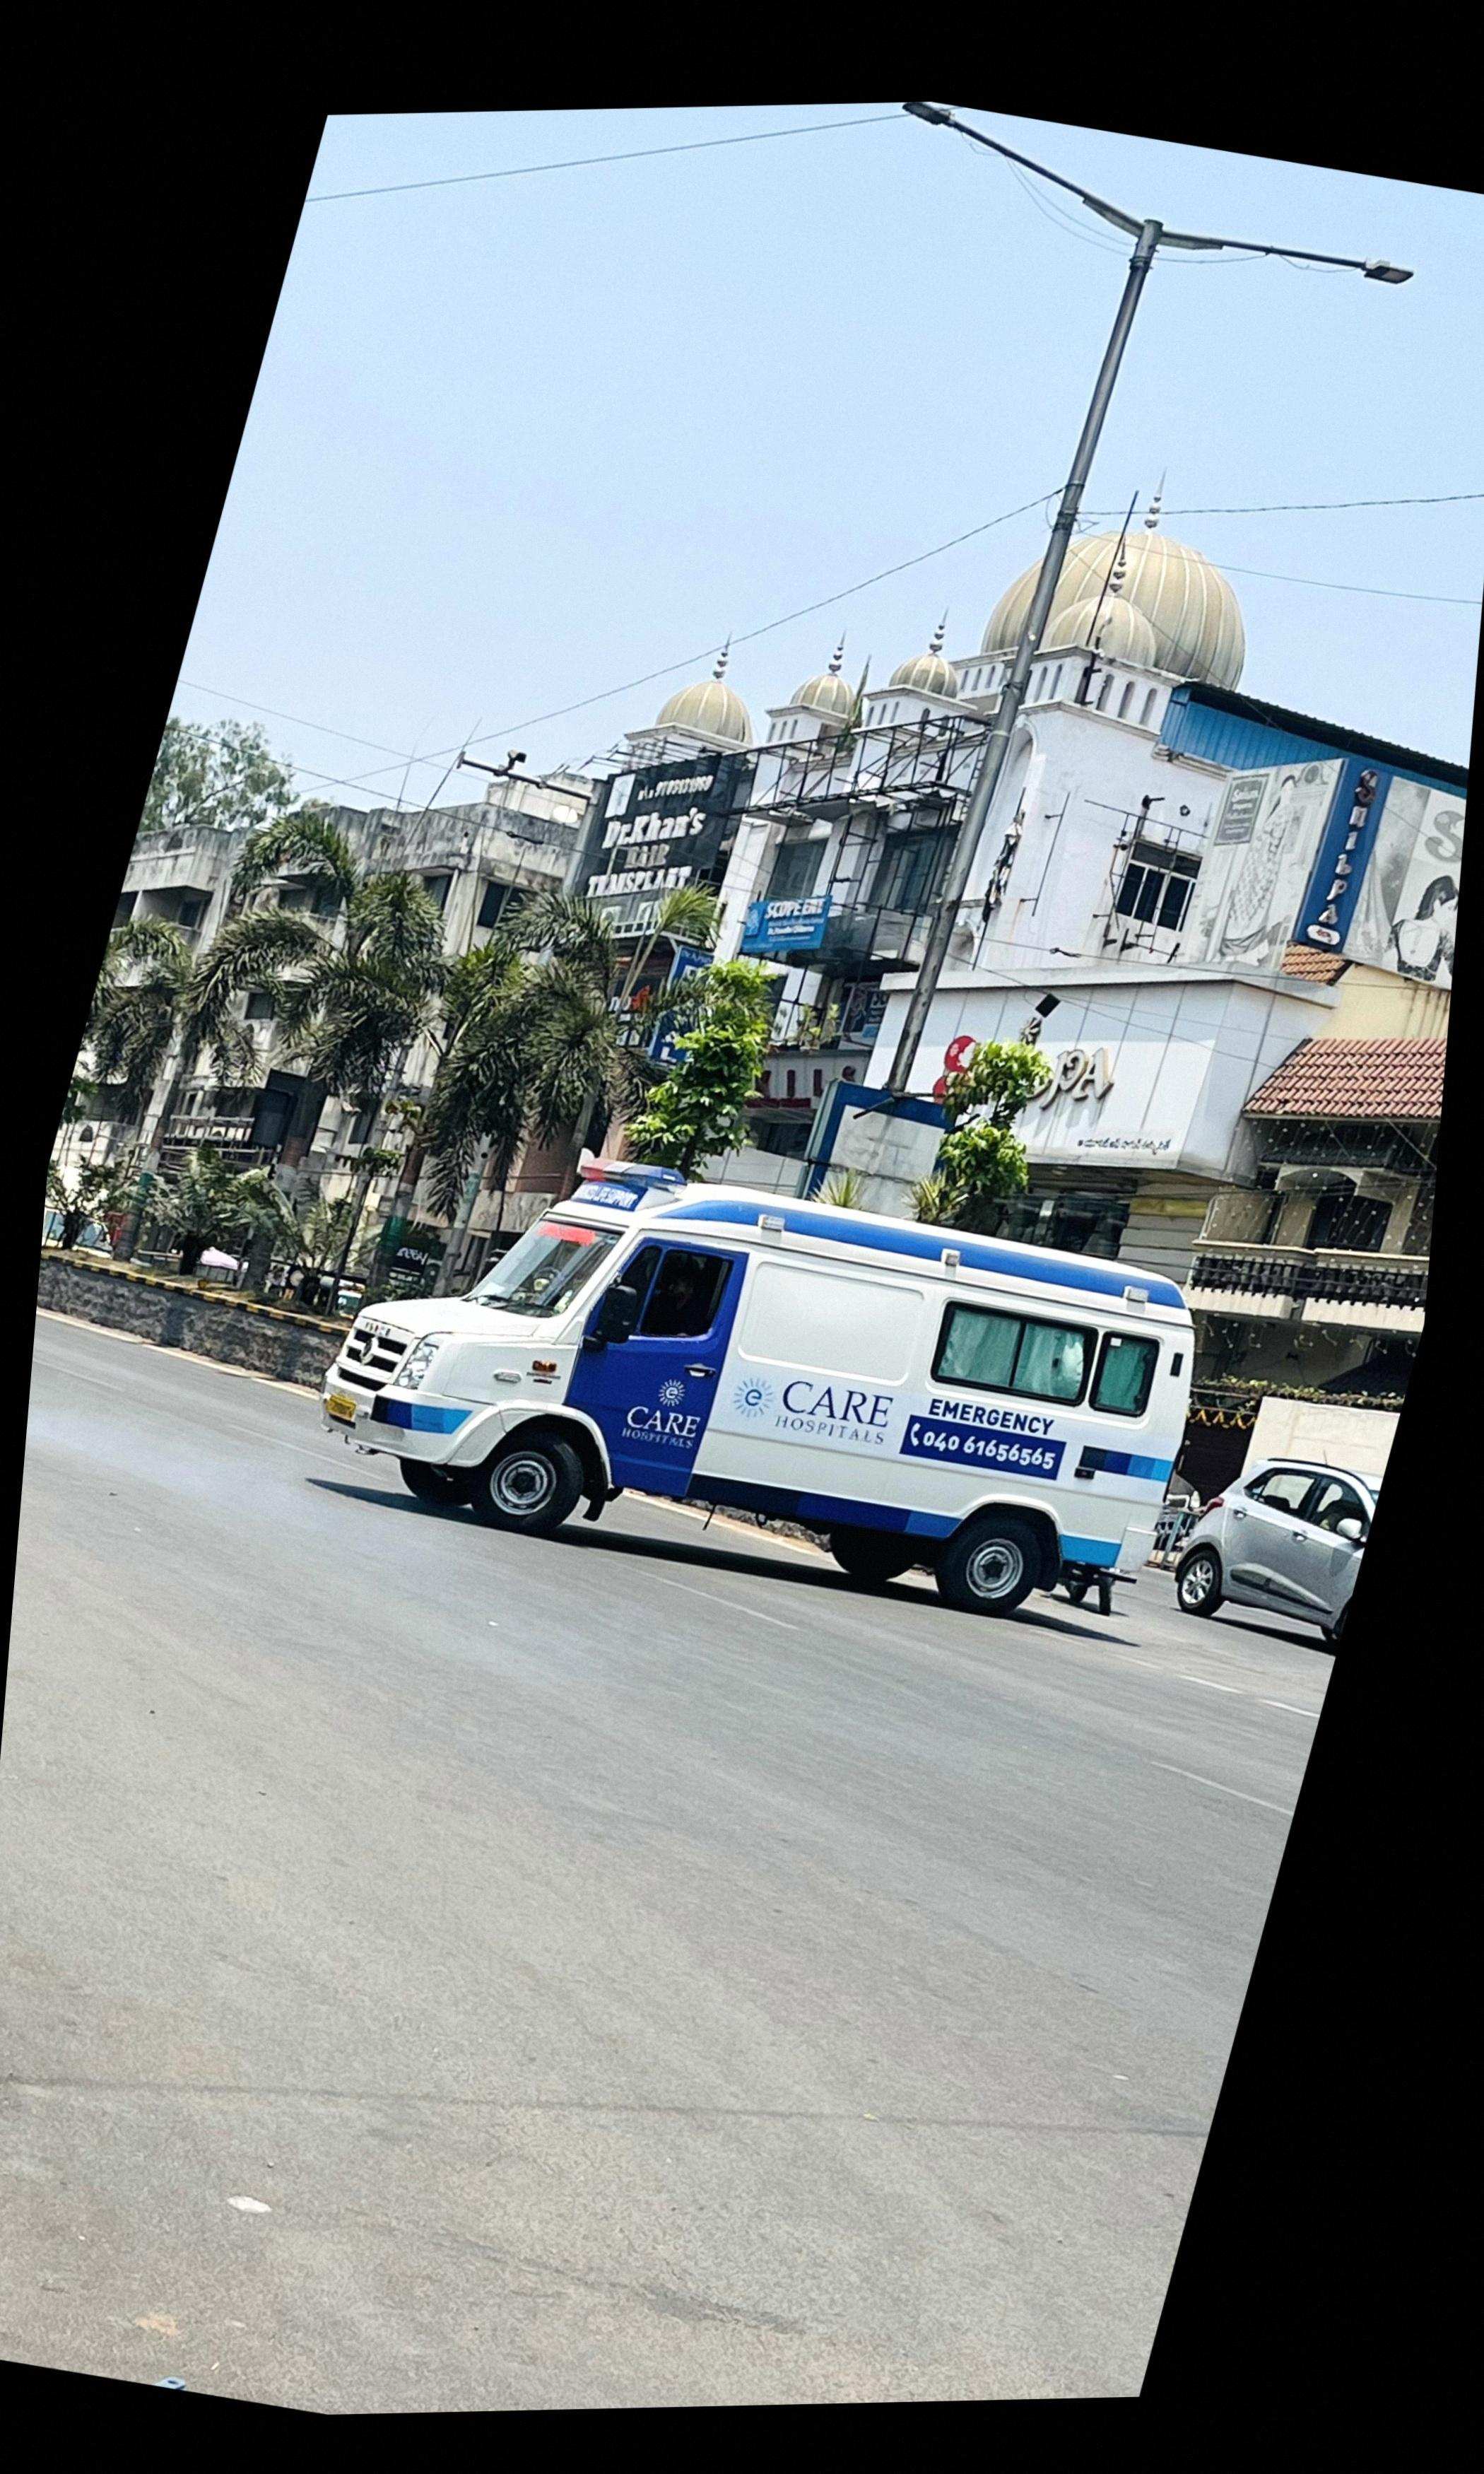ambulance: (360, 1180, 1194, 1615)
